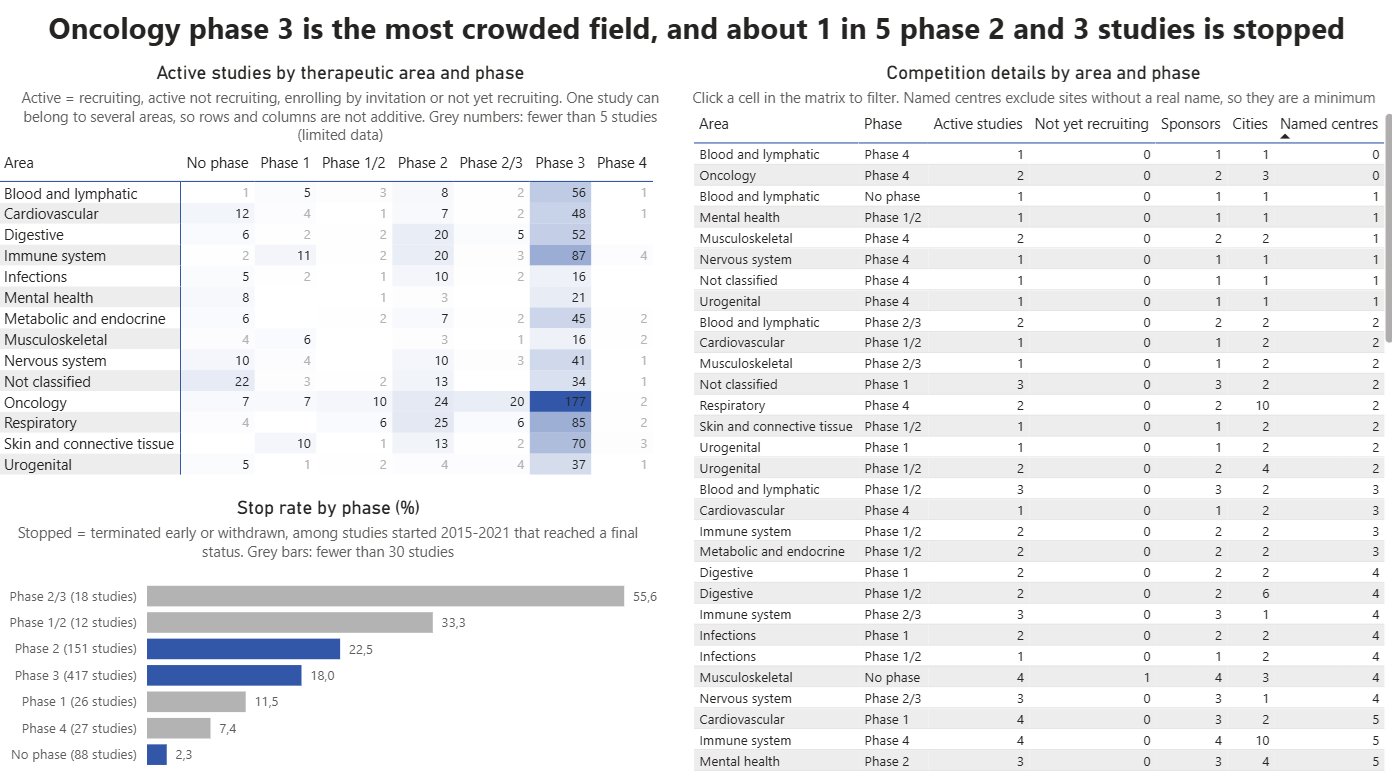

The page's visual inventory and layout, read from the dashboard file:
{"tool":"powerbi","page":{"name":"Landscape","canvas":[1280,720],"ordinal":1},"visuals":[{"type":"clusteredBarChart","title":"Stop rate by phase (%)","fields":{"Category":["stop_rate_by_phase.phaseN"],"Y":["Sum(stop_rate_by_phase.stopPct)"]},"box":[0,460.3,631.3,259.7],"z":0},{"type":"pivotTable","title":"Active studies by therapeutic area and phase","fields":{"Rows":["competition_area_phase.area"],"Columns":["competition_area_phase.phaseLabel"],"Values":["Sum(competition_area_phase.studies)"]},"box":[0,64.5,631.3,389.6],"z":1000},{"type":"tableEx","title":"Competition details by area and phase","fields":{"Values":["competition_area_phase.area","competition_area_phase.phaseLabel","Sum(competition_area_phase.studies)","Sum(competition_area_phase.notYet)","Sum(competition_area_phase.sponsors)","Sum(competition_area_phase.cities)","Sum(competition_area_phase.namedCentres)"]},"box":[631.3,64.5,648.4,655.5],"z":2000},{"type":"textbox","box":[0,10.7,1279.7,53.7],"z":3000}]}

Visuals, with their boxes in screenshot pixels (x1, y1, x2, y2), scaled from the page's 1280x720 canvas onto the 1392x775 screenshot:
"Stop rate by phase (%)" clusteredBarChart: pyautogui.locateOnScreen(0, 495, 687, 774)
"Active studies by therapeutic area and phase" pivotTable: pyautogui.locateOnScreen(0, 69, 687, 489)
"Competition details by area and phase" tableEx: pyautogui.locateOnScreen(687, 69, 1391, 774)
textbox: pyautogui.locateOnScreen(0, 12, 1391, 69)
